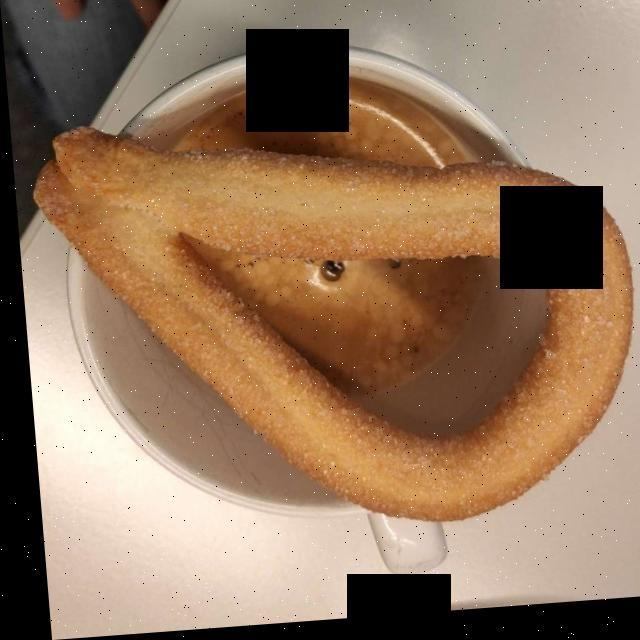biscuits: (39, 136, 612, 518)
coffee: (167, 88, 484, 403)
